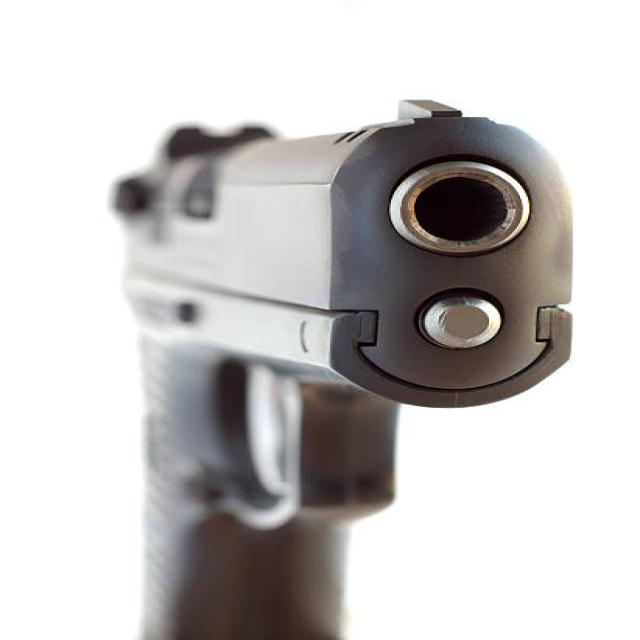pistol: (88, 87, 588, 640)
